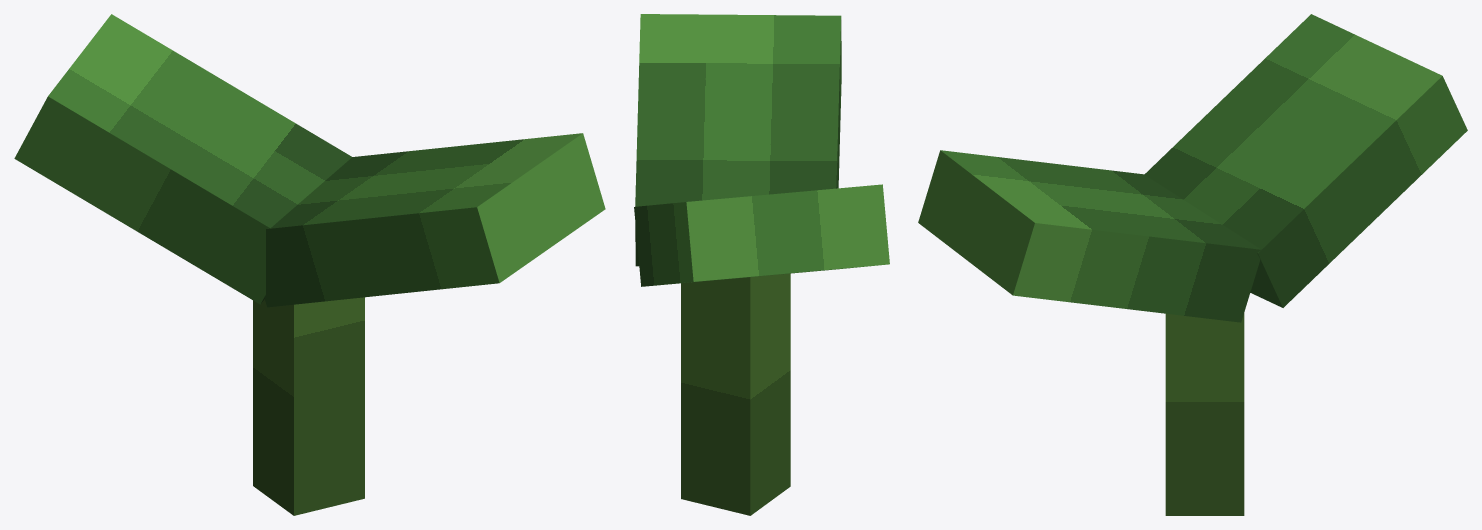
File: sprout.glb
3 renders of one model, left to right at view 1: azimuth 30°, elevation 25°; view 2: azimuth 150°, elevation 25°; view 3: azimuth 270°, elevation 25°, orthographic. The views are drawn at different scales.
Visible parts, largest first — view 1: sprout; view 2: sprout; view 3: sprout.
Part boxes in pixels (x1,y1,x2,y2): sprout: (14,14,605,515); sprout: (634,14,889,515); sprout: (918,14,1467,515).
Bounding box in the file's own units: 0.1191 × 0.1092 × 0.1398.
Materials: 1 (1 with a texture image).
